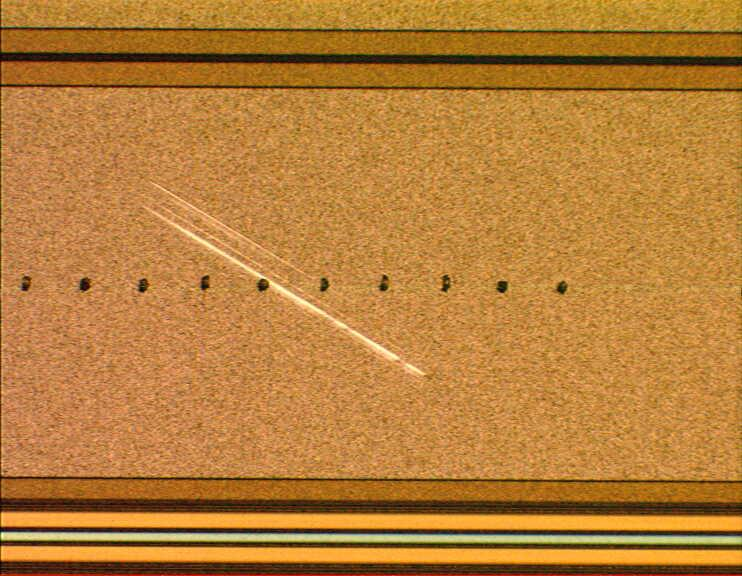SCRATCH: (129, 167, 441, 389)
